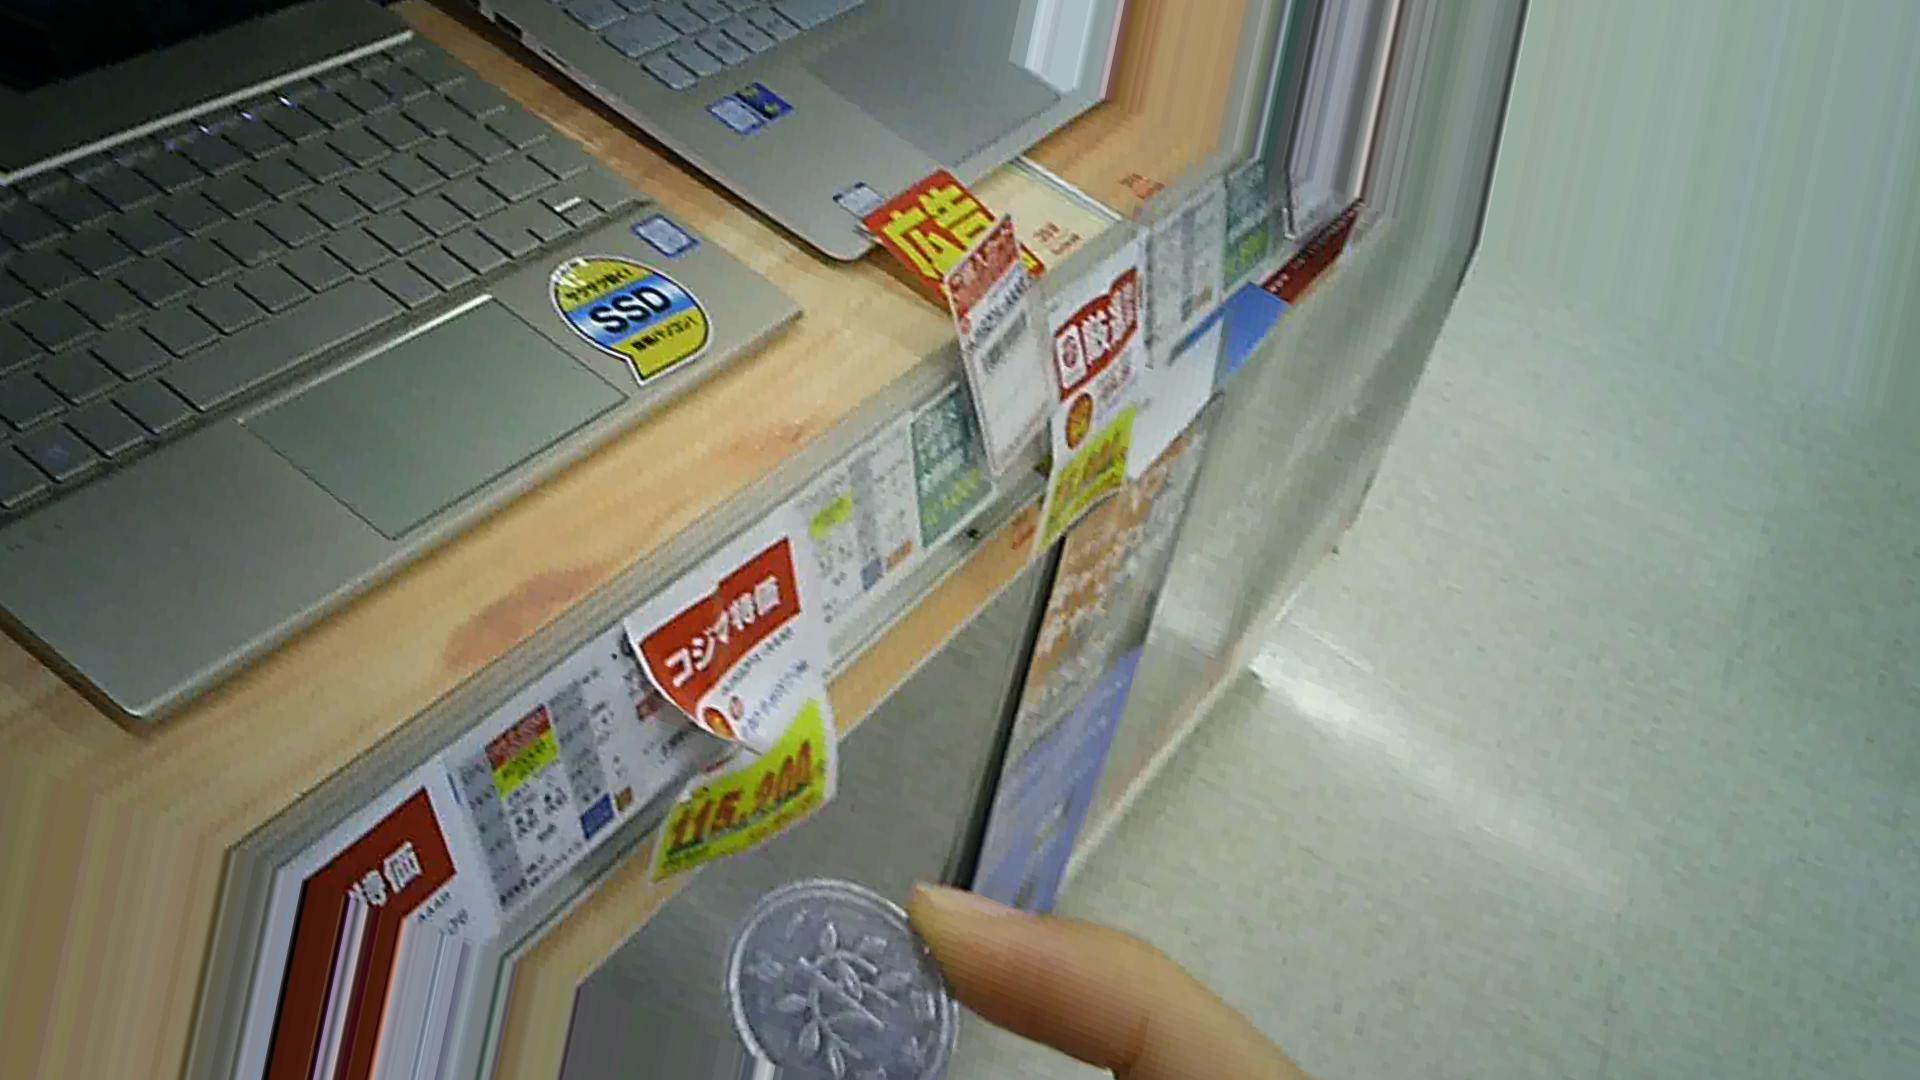1 Yen: (688, 866, 963, 1079)
